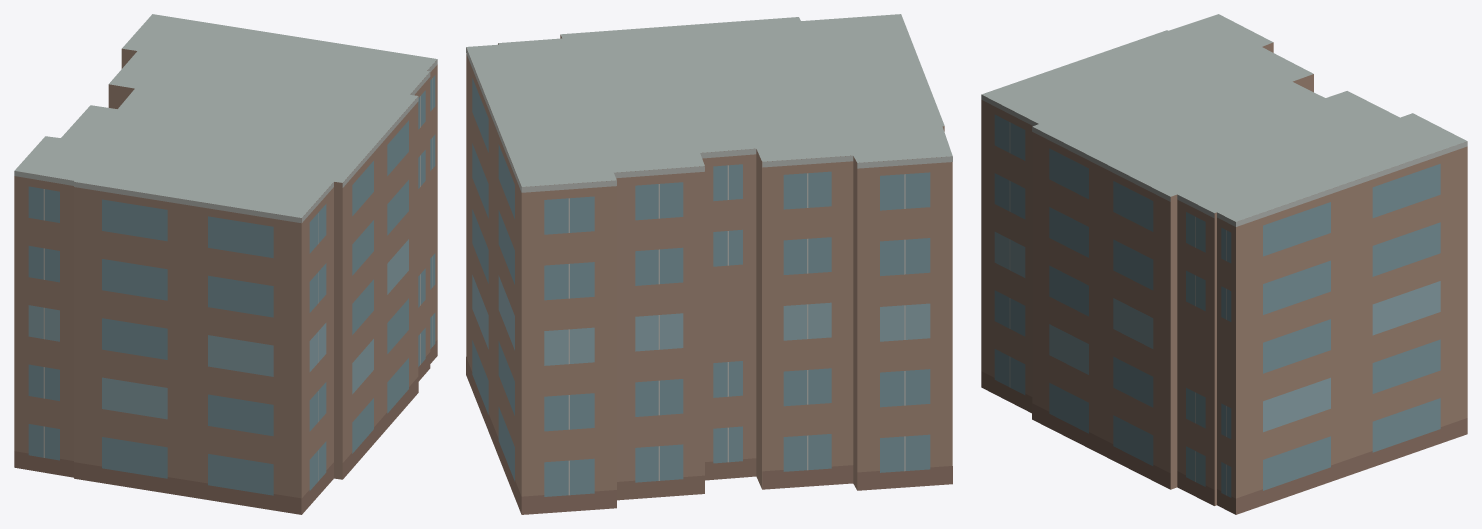
Rendered from survey-upis-32839547.glb.
3 renders of one model, left to right at view 1: azimuth 30°, elevation 25°; view 2: azimuth 150°, elevation 25°; view 3: azimuth 270°, elevation 25°, orthographic. The views are drawn at different scales.
Parts seen in each view (by area): view 1: survey-upis-32839547.tmp; view 2: survey-upis-32839547.tmp; view 3: survey-upis-32839547.tmp.
Part boxes in pixels (x1=…): survey-upis-32839547.tmp: x1=14, y1=14, x2=437, y2=514; survey-upis-32839547.tmp: x1=466, y1=14, x2=952, y2=514; survey-upis-32839547.tmp: x1=981, y1=14, x2=1467, y2=514.
Bounding box in the file's own units: 21.25 × 13.95 × 21.
